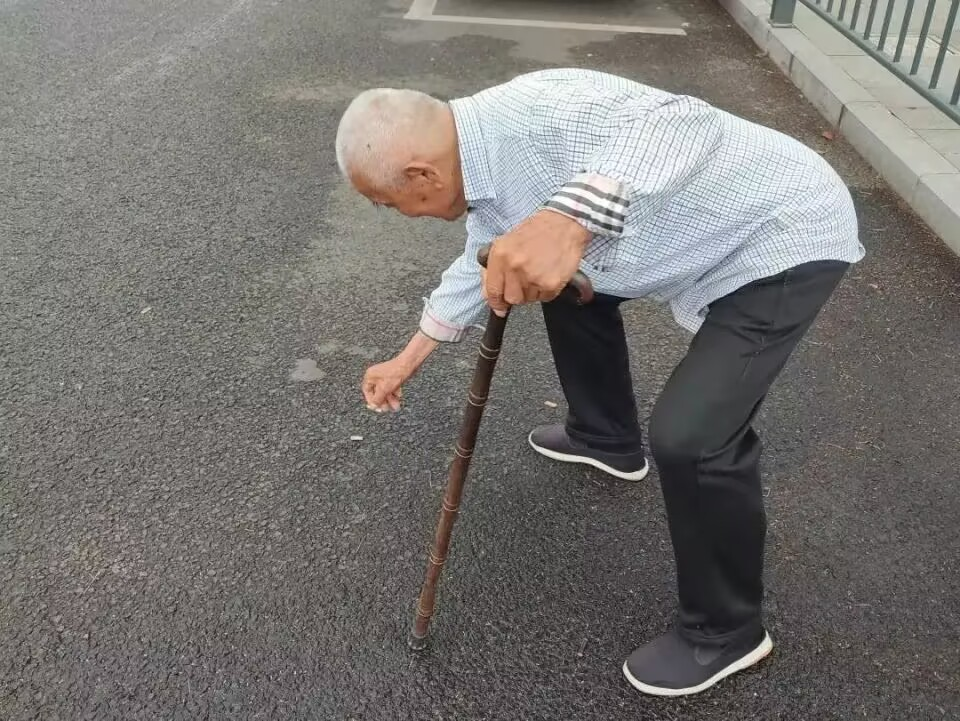bending: (315, 61, 867, 701)
